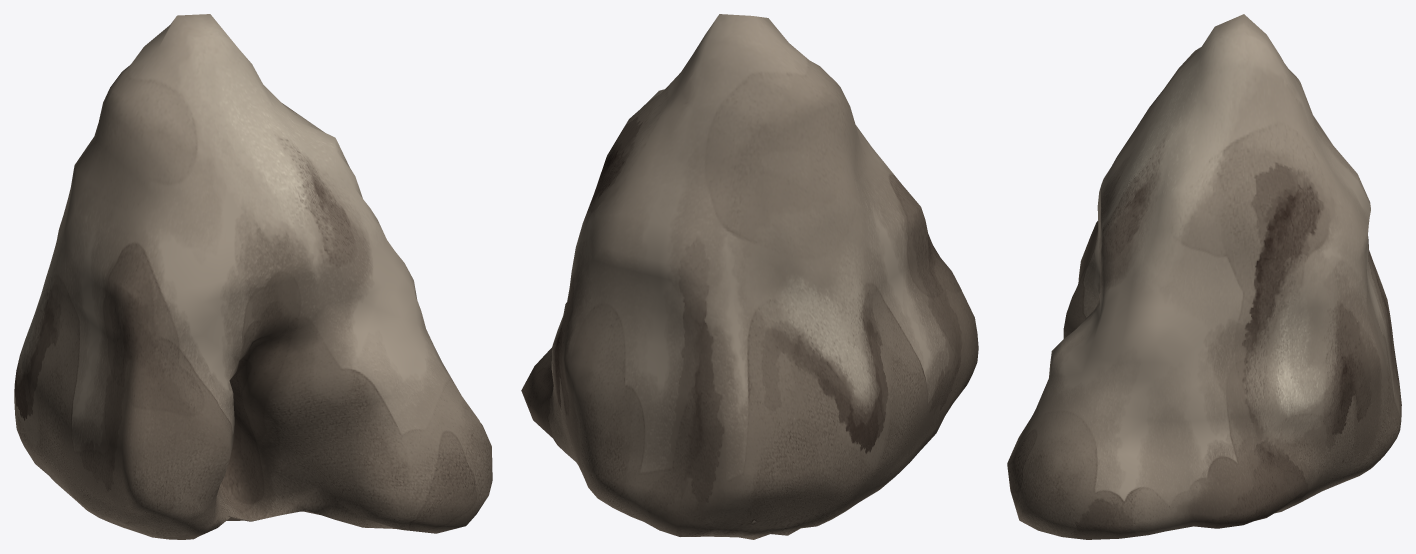
Rendered from rock1.fbx.
The picture shows the model from 3 angles, left to right: view 1: azimuth 30°, elevation 25°; view 2: azimuth 150°, elevation 25°; view 3: azimuth 270°, elevation 25°; orthographic projection. The views are drawn at different scales.
Parts seen in each view (by area): view 1: pCube5; view 2: pCube5; view 3: pCube5.
Part boxes in pixels (x1,y1,x2,y2): pCube5: (14, 14, 492, 539); pCube5: (521, 14, 978, 539); pCube5: (1007, 14, 1401, 539).
Bounding box in the file's own units: 61.94 × 76.5 × 59.93.
Materials: 1 (1 with a texture image).
